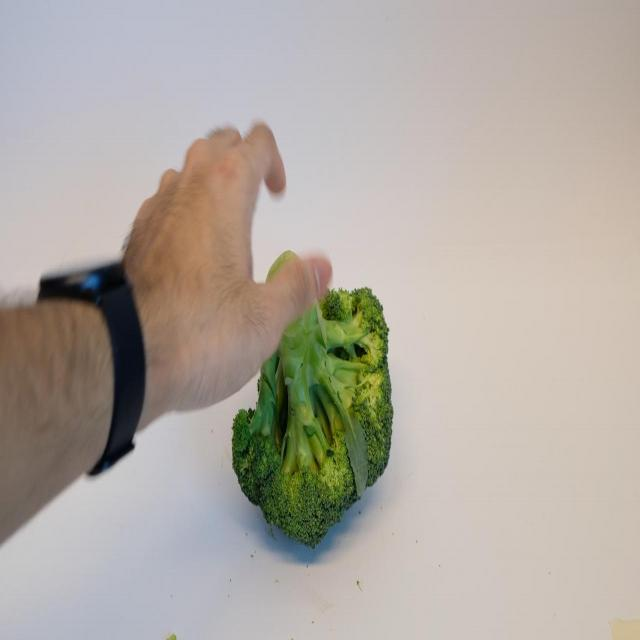broccoli: (230, 294, 393, 551)
